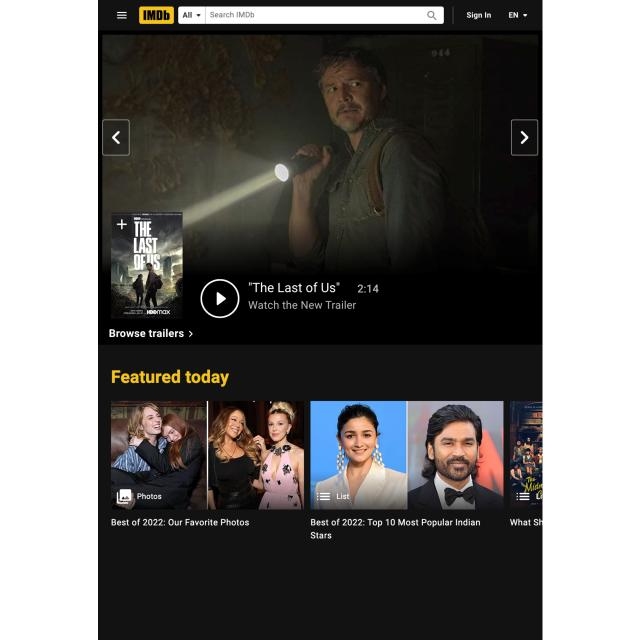input: (178, 6, 444, 25), (178, 6, 444, 24)
logo: (139, 5, 175, 25)
navigation: (511, 119, 539, 156), (103, 119, 130, 155), (115, 10, 129, 21)
